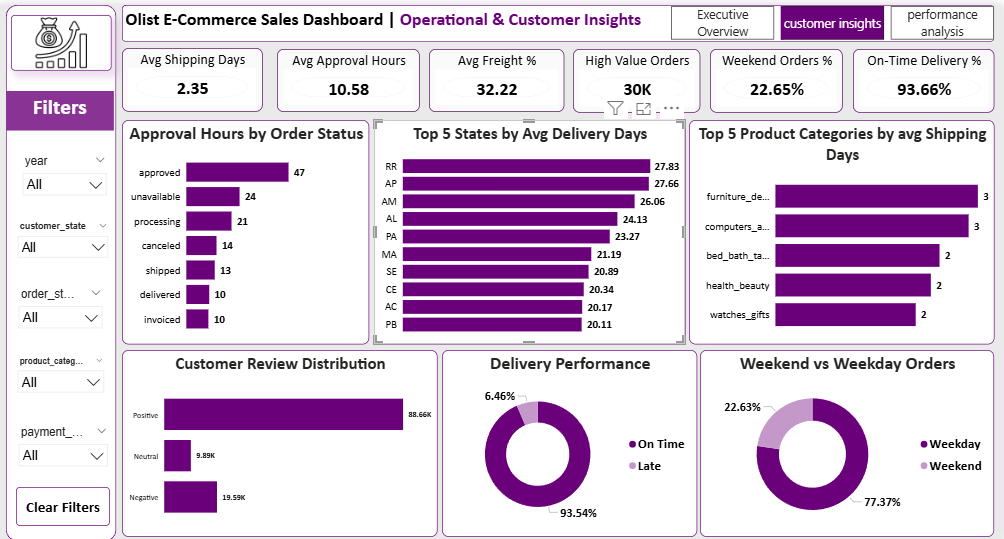

The dashboard page shown, as its layout file describes it:
{"tool":"powerbi","page":{"name":"customer insights","canvas":[1500,800],"ordinal":1},"visuals":[{"type":"shape","box":[11.3,0,164.5,800],"z":0},{"type":"shape","box":[185.5,0,1301.6,54.8],"z":1000},{"type":"cardVisual","title":"Avg Shipping Days","fields":{"Data":["master_table_final.avg shipping days"]},"box":[185.5,64.5,209.7,95.2],"z":2000},{"type":"cardVisual","title":"Avg Approval Hours","fields":{"Data":["master_table_final.avg approval hours"]},"box":[416.1,66.1,212.9,93.5],"z":3000},{"type":"cardVisual","title":"Avg Freight %","fields":{"Data":["master_table_final.avg freight %"]},"box":[642.9,66.1,201.6,93.5],"z":4000},{"type":"cardVisual","title":"High Value Orders","fields":{"Data":["master_table_final.order_value"]},"box":[858.7,66.1,190.3,95.2],"z":5000},{"type":"cardVisual","title":"Weekend Orders %","fields":{"Data":["master_table_final.weekend orders %"]},"box":[1063.2,66.1,198.4,95.2],"z":6000},{"type":"cardVisual","title":"On-Time Delivery %","fields":{"Data":["master_table_final.on time delivery %"]},"box":[1275.8,66.1,211.3,95.2],"z":7000},{"type":"clusteredBarChart","title":"Customer Review Distribution","fields":{"Category":["master_table_final.review_category"],"Y":["CountNonNull(master_table_final.order_id)"]},"box":[185.5,514.5,471,279],"z":8000},{"type":"clusteredBarChart","title":"Approval Hours by Order Status","fields":{"Category":["master_table_final.order_status"],"Y":["Avg(master_table_final.approval_hours)"]},"box":[185.5,171,369.4,335.5],"z":9000},{"type":"clusteredBarChart","title":"Top 5 States by Avg Delivery Days","fields":{"Category":["master_table_final.customer_state"],"Y":["Avg(master_table_final.delivery_days)"]},"box":[561.3,171,464.5,335.5],"z":10000},{"type":"donutChart","title":"Weekend vs Weekday Orders","fields":{"Category":["master_table_final.order type"],"Y":["CountNonNull(master_table_final.order_id)"]},"box":[1048.4,514.5,438.7,279],"z":11000},{"type":"clusteredBarChart","title":"Top 5 Product Categories by avg Shipping Days","fields":{"Category":["master_table_final.product_category_name_english"],"Y":["Avg(master_table_final.shipping_days)"]},"box":[1030.6,171,456.5,335.5],"z":12000},{"type":"slicer","fields":{"Values":["master_table_final.purchase_year"]},"box":[27.3,217.3,145.2,71],"z":13000},{"type":"slicer","fields":{"Values":["master_table_final.product_category_name_english"]},"box":[19.4,519.4,149.3,73.1],"z":14000},{"type":"slicer","fields":{"Values":["master_table_final.order_status"]},"box":[20.9,416.4,144.8,70.1],"z":15000},{"type":"slicer","fields":{"Values":["master_table_final.customer_state"]},"box":[19.4,317.9,155.2,71.6],"z":16000},{"type":"slicer","fields":{"Values":["master_table_final.payment_type"]},"box":[20.8,622.3,153.2,71],"z":17000},{"type":"actionButton","box":[27.4,719.4,140.3,58.1],"z":18000},{"type":"textbox","box":[12.1,128.3,160.6,59.1],"z":19000},{"type":"textbox","box":[185.1,0,961.2,55.2],"z":20000},{"type":"image","box":[19.7,15.1,150,83.3],"z":21000},{"type":"donutChart","title":"Delivery Performance","fields":{"Category":["master_table_final.delivery status"],"Y":["CountNonNull(master_table_final.order_id)"]},"box":[662.1,514.5,380.6,279],"z":22000},{"type":"pageNavigator","box":[1004.5,1.5,482.1,50.7],"z":22001}]}

Visuals, with their boxes in screenshot pixels (x1, y1, x2, y2), scaled from the page's 1500x800 canvas onto the 1004x539 screenshot:
shape: 8, 0, 118, 538
shape: 124, 0, 995, 37
"Avg Shipping Days" cardVisual: 124, 43, 265, 108
"Avg Approval Hours" cardVisual: 279, 45, 421, 108
"Avg Freight %" cardVisual: 430, 45, 565, 108
"High Value Orders" cardVisual: 575, 45, 702, 109
"Weekend Orders %" cardVisual: 712, 45, 844, 109
"On-Time Delivery %" cardVisual: 854, 45, 995, 109
"Customer Review Distribution" clusteredBarChart: 124, 347, 439, 535
"Approval Hours by Order Status" clusteredBarChart: 124, 115, 371, 341
"Top 5 States by Avg Delivery Days" clusteredBarChart: 376, 115, 687, 341
"Weekend vs Weekday Orders" donutChart: 702, 347, 995, 535
"Top 5 Product Categories by avg Shipping Days" clusteredBarChart: 690, 115, 995, 341
slicer - master_table_final.purchase_year: 18, 146, 115, 194
slicer - master_table_final.product_category_name_english: 13, 350, 113, 399
slicer - master_table_final.order_status: 14, 281, 111, 328
slicer - master_table_final.customer_state: 13, 214, 117, 262
slicer - master_table_final.payment_type: 14, 419, 116, 467
actionButton: 18, 485, 112, 524
textbox: 8, 86, 116, 126
textbox: 124, 0, 767, 37
image: 13, 10, 114, 66
"Delivery Performance" donutChart: 443, 347, 698, 535
pageNavigator: 672, 1, 995, 35
